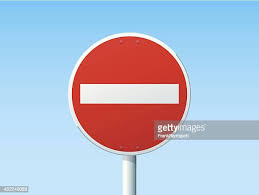No entry: (67, 33, 191, 155)
